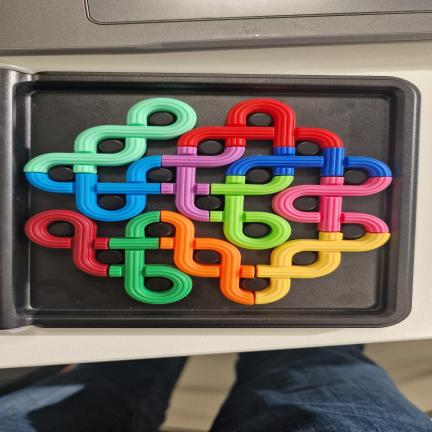A_Yellow: (254, 232, 390, 304)
B_SkyBlue: (26, 156, 161, 221)
C_DarkBlue: (226, 147, 392, 177)
D_Green: (109, 212, 192, 304)
E_Red: (178, 99, 343, 148)
F_Teal: (24, 98, 196, 174)
G_Pink: (272, 177, 392, 232)
H_Purple: (161, 147, 244, 221)
I_Orange: (160, 211, 254, 304)
J_DarkRed: (25, 210, 109, 276)
K_YellowGreen: (210, 175, 293, 249)
board: (0, 69, 420, 329)
hinge: (0, 76, 24, 322)
pin: (148, 111, 176, 126), (145, 277, 173, 292), (48, 221, 74, 237), (243, 223, 270, 238), (242, 277, 269, 292), (49, 166, 74, 182), (148, 222, 174, 237), (194, 250, 221, 264), (198, 140, 223, 155), (246, 169, 271, 184), (99, 195, 124, 210), (293, 196, 318, 211), (97, 249, 122, 264), (98, 139, 124, 153), (344, 170, 368, 185), (148, 168, 172, 183), (341, 224, 365, 239), (196, 196, 221, 210), (292, 251, 317, 265), (297, 141, 321, 155), (247, 113, 272, 126)
